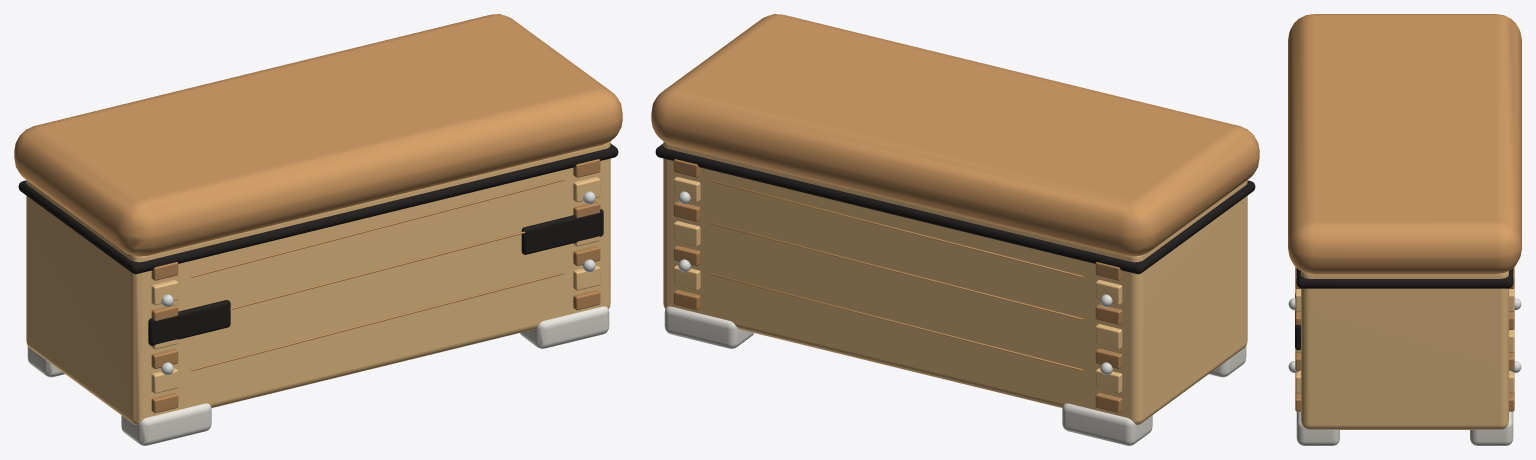
Rendered from kastenelement_einzeln_3D.glb.
The picture shows the model from 3 angles, left to right: view 1: azimuth 30°, elevation 25°; view 2: azimuth 150°, elevation 25°; view 3: azimuth 270°, elevation 25°; orthographic projection. The views are drawn at different scales.
Visible parts, largest first — view 1: kastenelement_einzeln_3D__web_tan_plywood_vault_box_side_pan, kastenelement_einzeln_3D__web_caramel_brown_padded_vault_top, kastenelement_einzeln_3D__web_black_recessed_vault_carry_han, kastenelement_einzeln_3D__web_off_white_nylon_vault_feet, kastenelement_einzeln_3D__web_darker_exposed_finger_joint_wo, kastenelement_einzeln_3D__web_subtle_darker_plywood_grain_li; view 2: kastenelement_einzeln_3D__web_tan_plywood_vault_box_side_pan, kastenelement_einzeln_3D__web_caramel_brown_padded_vault_top, kastenelement_einzeln_3D__web_black_recessed_vault_carry_han, kastenelement_einzeln_3D__web_off_white_nylon_vault_feet, kastenelement_einzeln_3D__web_darker_exposed_finger_joint_wo, kastenelement_einzeln_3D__web_subtle_darker_plywood_grain_li; view 3: kastenelement_einzeln_3D__web_caramel_brown_padded_vault_top, kastenelement_einzeln_3D__web_tan_plywood_vault_box_side_pan, kastenelement_einzeln_3D__web_black_recessed_vault_carry_han, kastenelement_einzeln_3D__web_off_white_nylon_vault_feet, kastenelement_einzeln_3D__web_darker_exposed_finger_joint_wo, kastenelement_einzeln_3D__web_small_chrome_vault_screws.
Boxes of the visible parts, bbox=[...] form: kastenelement_einzeln_3D__web_tan_plywood_vault_box_side_pan: bbox=[26, 142, 610, 424]; kastenelement_einzeln_3D__web_caramel_brown_padded_vault_top: bbox=[14, 14, 622, 256]; kastenelement_einzeln_3D__web_black_recessed_vault_carry_han: bbox=[18, 143, 618, 345]; kastenelement_einzeln_3D__web_off_white_nylon_vault_feet: bbox=[27, 306, 609, 445]; kastenelement_einzeln_3D__web_darker_exposed_finger_joint_wo: bbox=[151, 159, 600, 413]; kastenelement_einzeln_3D__web_subtle_darker_plywood_grain_li: bbox=[190, 178, 564, 371]; kastenelement_einzeln_3D__web_tan_plywood_vault_box_side_pan: bbox=[663, 142, 1247, 424]; kastenelement_einzeln_3D__web_caramel_brown_padded_vault_top: bbox=[651, 14, 1259, 256]; kastenelement_einzeln_3D__web_black_recessed_vault_carry_han: bbox=[655, 143, 1255, 274]; kastenelement_einzeln_3D__web_off_white_nylon_vault_feet: bbox=[664, 306, 1246, 445]; kastenelement_einzeln_3D__web_darker_exposed_finger_joint_wo: bbox=[673, 159, 1122, 413]; kastenelement_einzeln_3D__web_subtle_darker_plywood_grain_li: bbox=[709, 180, 1083, 371]; kastenelement_einzeln_3D__web_caramel_brown_padded_vault_top: bbox=[1288, 14, 1521, 274]; kastenelement_einzeln_3D__web_tan_plywood_vault_box_side_pan: bbox=[1295, 271, 1514, 429]; kastenelement_einzeln_3D__web_black_recessed_vault_carry_han: bbox=[1295, 268, 1513, 350]; kastenelement_einzeln_3D__web_off_white_nylon_vault_feet: bbox=[1296, 411, 1513, 445]; kastenelement_einzeln_3D__web_darker_exposed_finger_joint_wo: bbox=[1295, 267, 1514, 411]; kastenelement_einzeln_3D__web_small_chrome_vault_screws: bbox=[1288, 298, 1521, 372].
Bounding box in the file's own units: 1.24 × 0.57 × 0.54.
